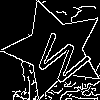W: (30, 24, 98, 89)
